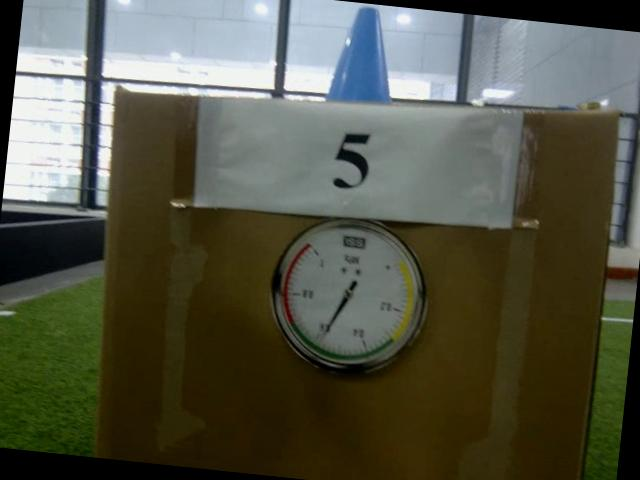5: (328, 127, 373, 192)
Dashboard: (262, 211, 434, 384)
blue_barrel: (324, 3, 401, 106)
ssi: (342, 235, 367, 249)
